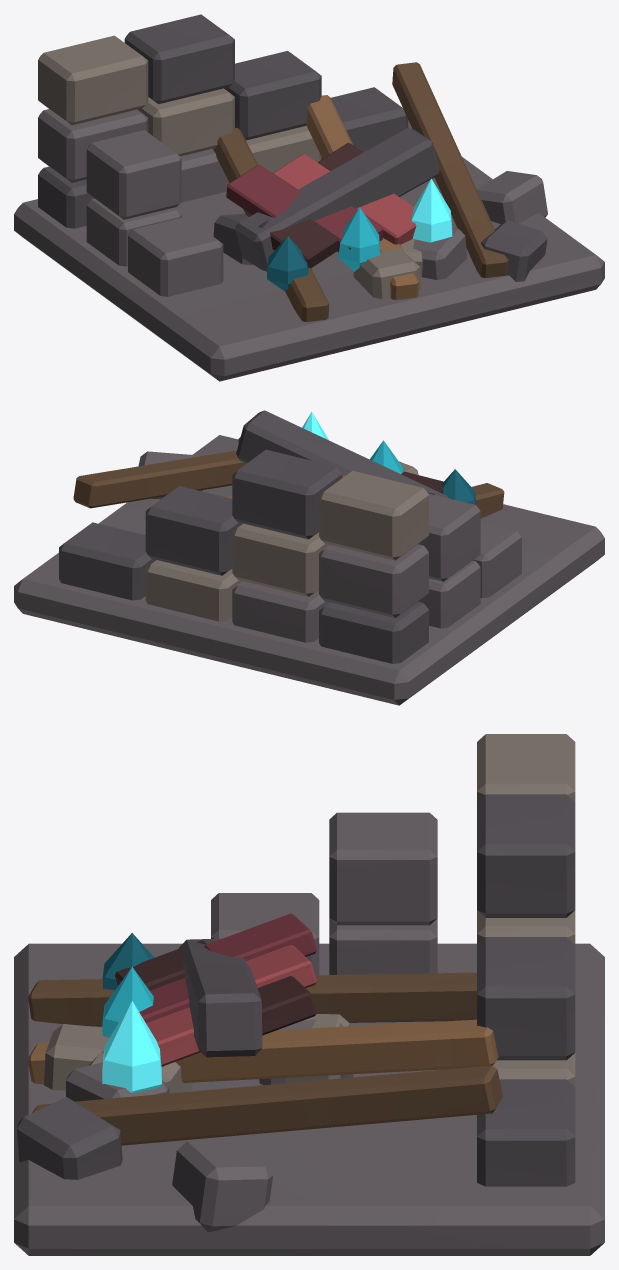
The model's file is ruin_crystal_mine-Bk4Nn5b_.glb.
3 renders of one model, top to bottom at view 1: azimuth 30°, elevation 25°; view 2: azimuth 150°, elevation 25°; view 3: azimuth 270°, elevation 25°, orthographic. The views are drawn at different scales.
Parts seen in each view (by area): view 1: ruin_crystal_mine_l1_body, ruin_crystal_mine_l1_crystal; view 2: ruin_crystal_mine_l1_body, ruin_crystal_mine_l1_crystal; view 3: ruin_crystal_mine_l1_body, ruin_crystal_mine_l1_crystal.
Boxes of the visible parts, x1,y1,x2,y2 form: ruin_crystal_mine_l1_body: [14, 14, 604, 381]; ruin_crystal_mine_l1_crystal: [267, 178, 452, 291]; ruin_crystal_mine_l1_body: [14, 410, 604, 705]; ruin_crystal_mine_l1_crystal: [302, 411, 475, 504]; ruin_crystal_mine_l1_body: [14, 734, 604, 1255]; ruin_crystal_mine_l1_crystal: [102, 933, 161, 1092].
Size of the model in its own units: 0.6703 by 0.3005 by 0.6.
2 materials, 2 textured.
